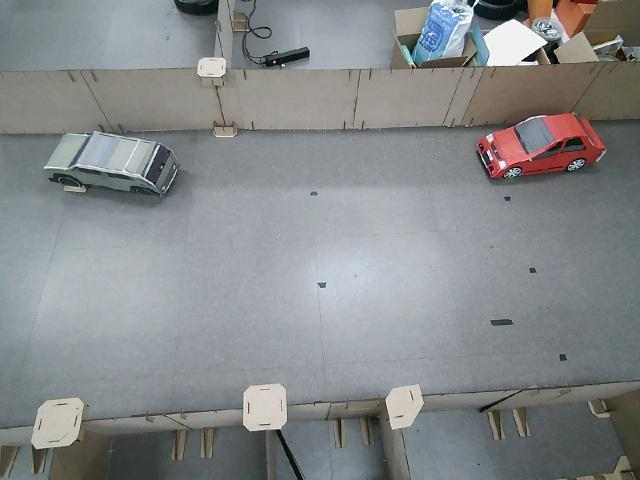car: (38, 125, 191, 212), (468, 104, 619, 190)
